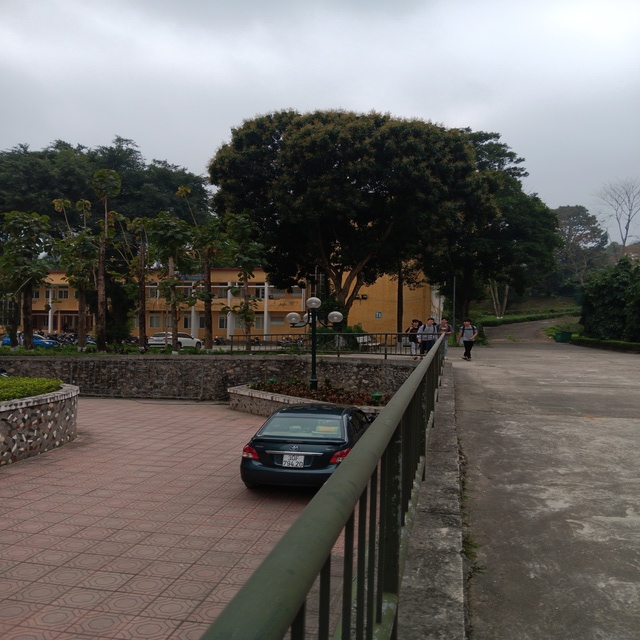cotden: (283, 293, 345, 400)
